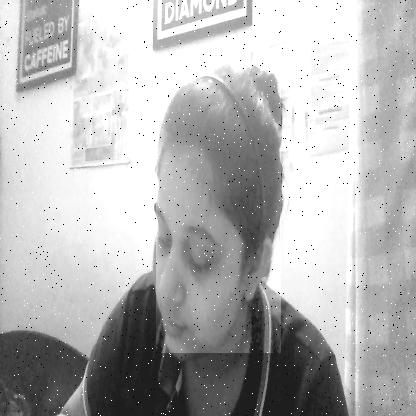Distracted: (156, 62, 281, 353)
